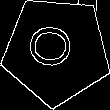O_E: (30, 27, 83, 74)
